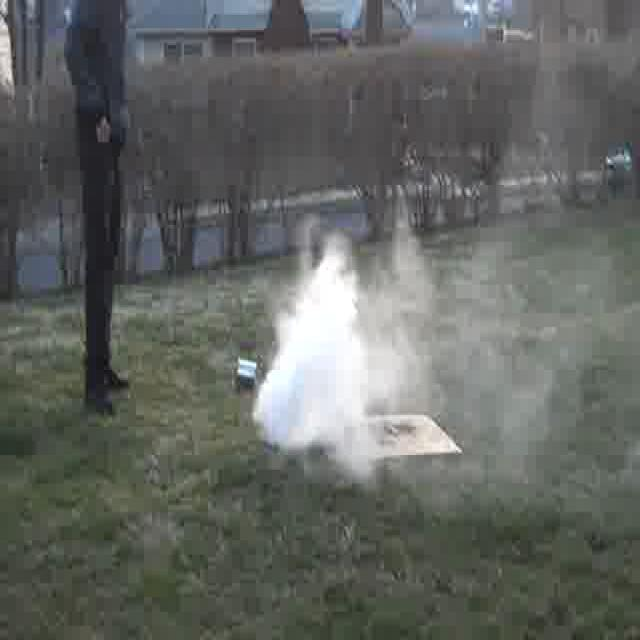Smoke: (274, 260, 376, 467)
